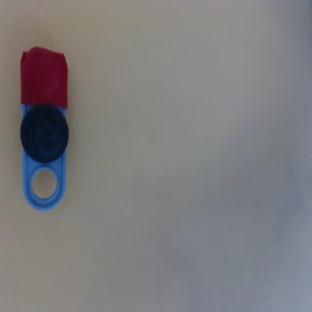part_1_good: (20, 47, 68, 211)
